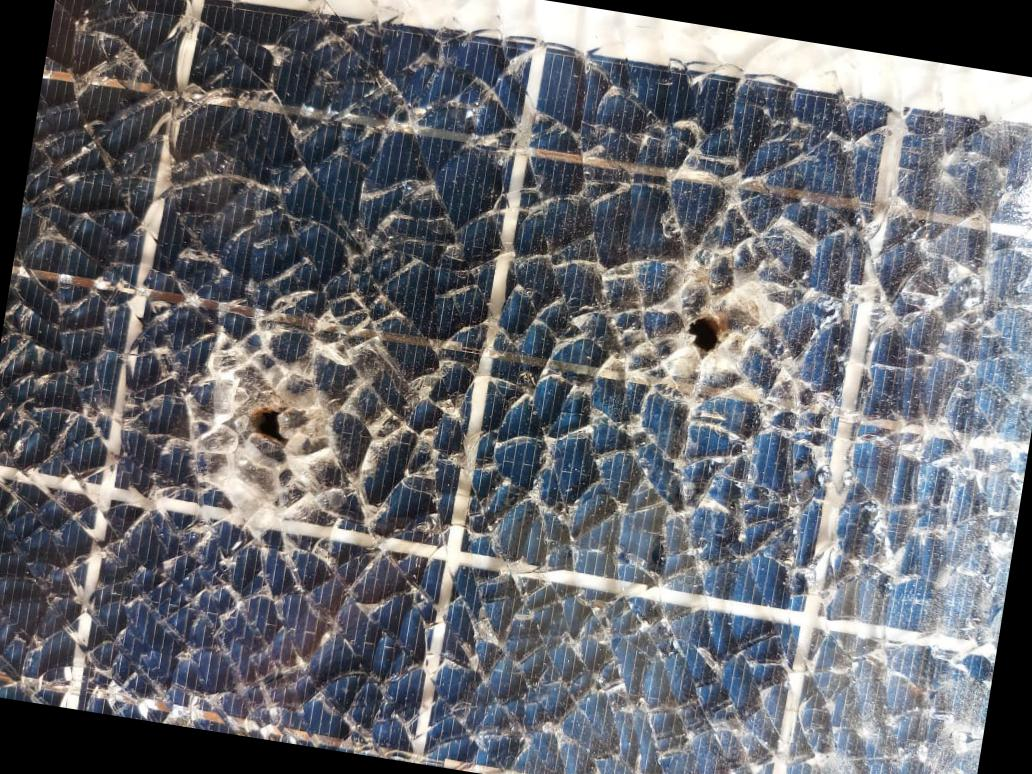Crack: (120, 293, 460, 600), (566, 174, 868, 486)
